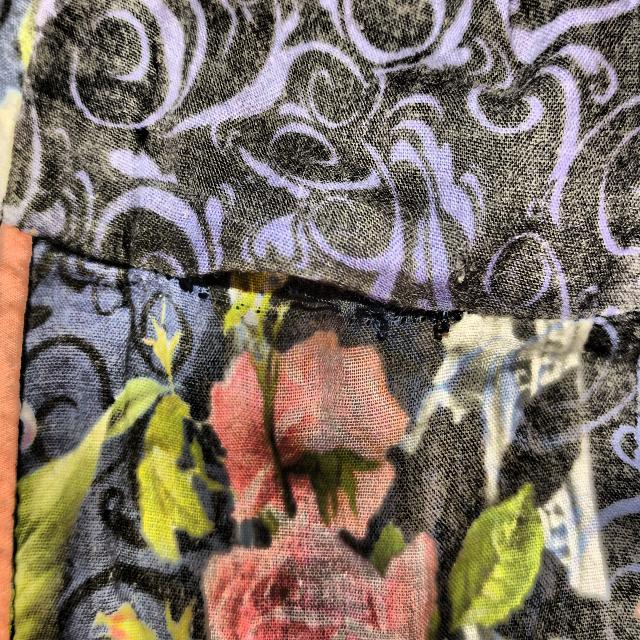seam: (142, 216, 458, 373)
